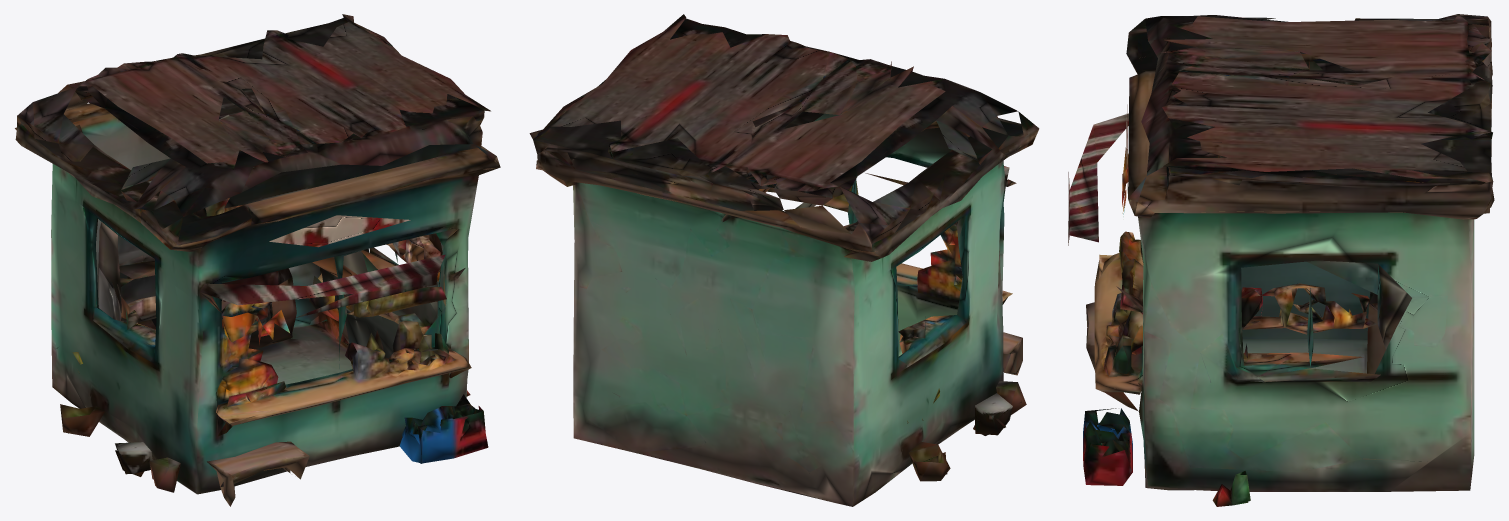
Rendered from sari-sari-store.glb.
3 renders of one model, left to right at view 1: azimuth 30°, elevation 25°; view 2: azimuth 150°, elevation 25°; view 3: azimuth 270°, elevation 25°, orthographic. The views are drawn at different scales.
Visible parts, largest first — view 1: geometry_0; view 2: geometry_0; view 3: geometry_0.
Boxes of the visible parts, x1,y1,x2,y2 form: geometry_0: (15,14,500,506); geometry_0: (529,14,1039,506); geometry_0: (1068,14,1494,506).
Bounding box in the file's own units: 1.19 × 1 × 1.11.
Materials: 1 (1 with a texture image).
